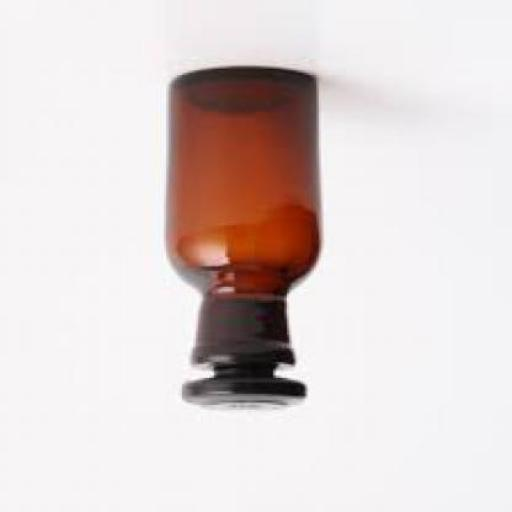glass: (166, 66, 319, 409)
